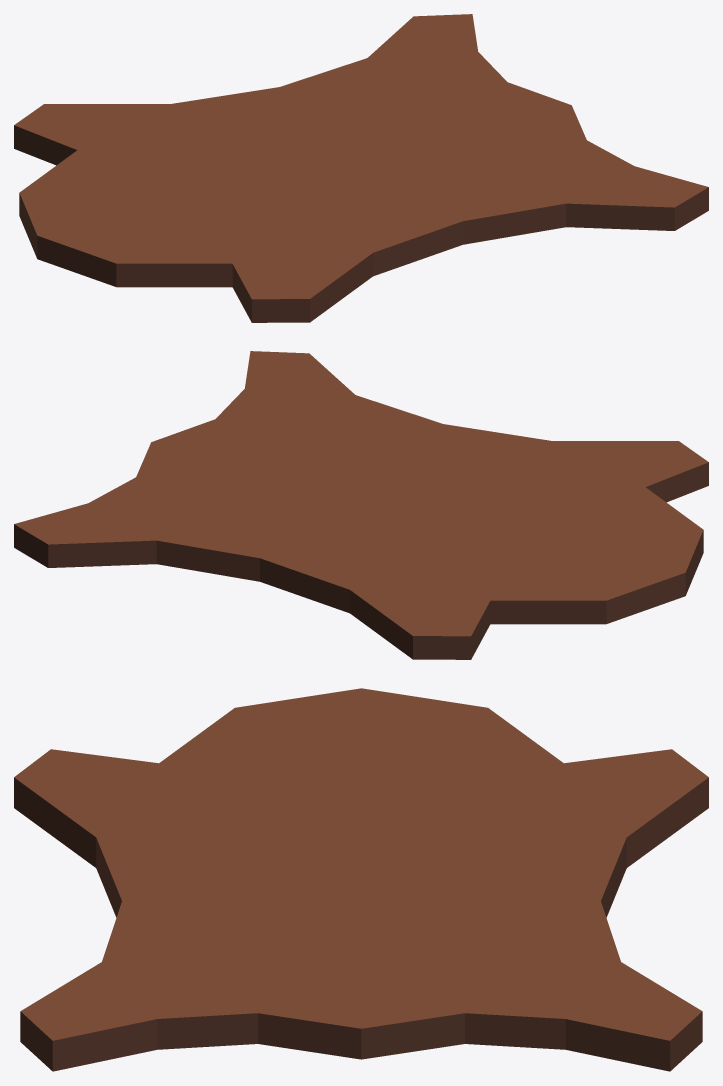
The model's file is FBX_Leather.fbx.
3 views of the same model, one above another, from view 1: azimuth 30°, elevation 25°; view 2: azimuth 150°, elevation 25°; view 3: azimuth 270°, elevation 25° (orthographic). The views are drawn at different scales.
Parts seen in each view (by area): view 1: leather, edges; view 2: leather, edges; view 3: leather, edges.
Part boxes in pixels (x1,y1,x2,y2): leather: [14, 14, 708, 299]; edges: [14, 125, 708, 322]; leather: [14, 351, 708, 636]; edges: [14, 462, 708, 659]; leather: [14, 688, 708, 1040]; edges: [14, 777, 708, 1071].
Bounding box in the file's own units: 0.5784 × 0.0283 × 0.6944.
